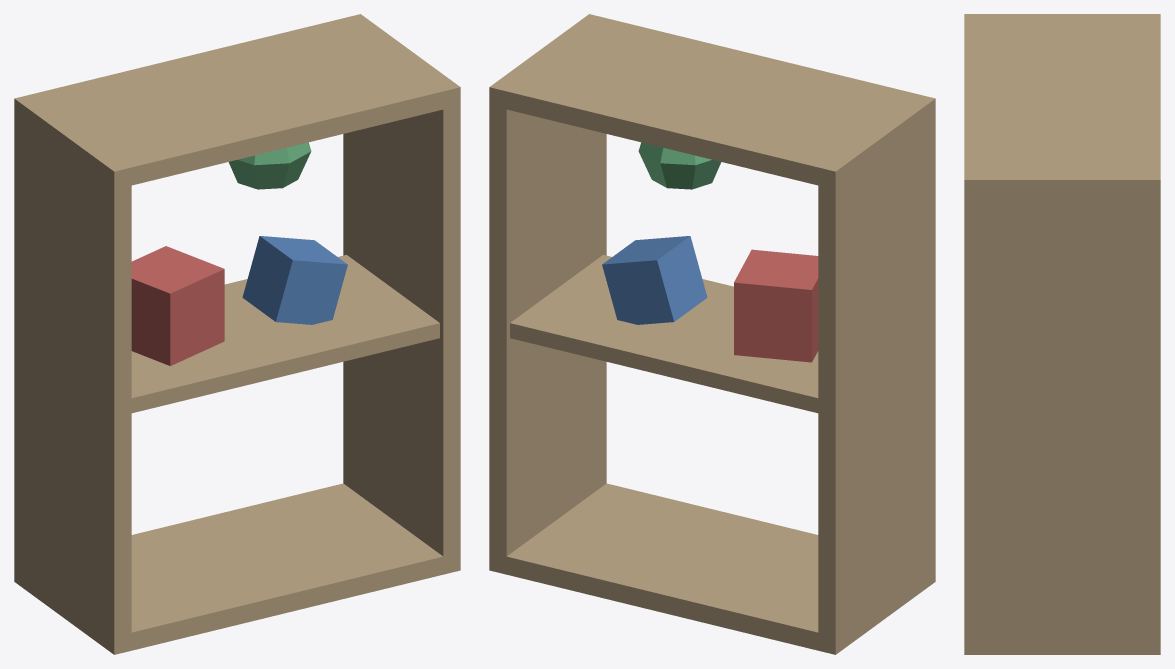
The model's file is kids_estante.glb.
3 views of the same model, side by side, from view 1: azimuth 30°, elevation 25°; view 2: azimuth 150°, elevation 25°; view 3: azimuth 270°, elevation 25° (orthographic).
Parts seen in each view (by area): view 1: KIDS_ESTANTE_v01; view 2: KIDS_ESTANTE_v01; view 3: KIDS_ESTANTE_v01.
Part boxes in pixels (x1,y1,x2,y2): KIDS_ESTANTE_v01: (14, 14, 460, 654); KIDS_ESTANTE_v01: (489, 14, 935, 654); KIDS_ESTANTE_v01: (964, 14, 1160, 654).
Size of the model in its own units: 0.6 by 0.8 by 0.3.
